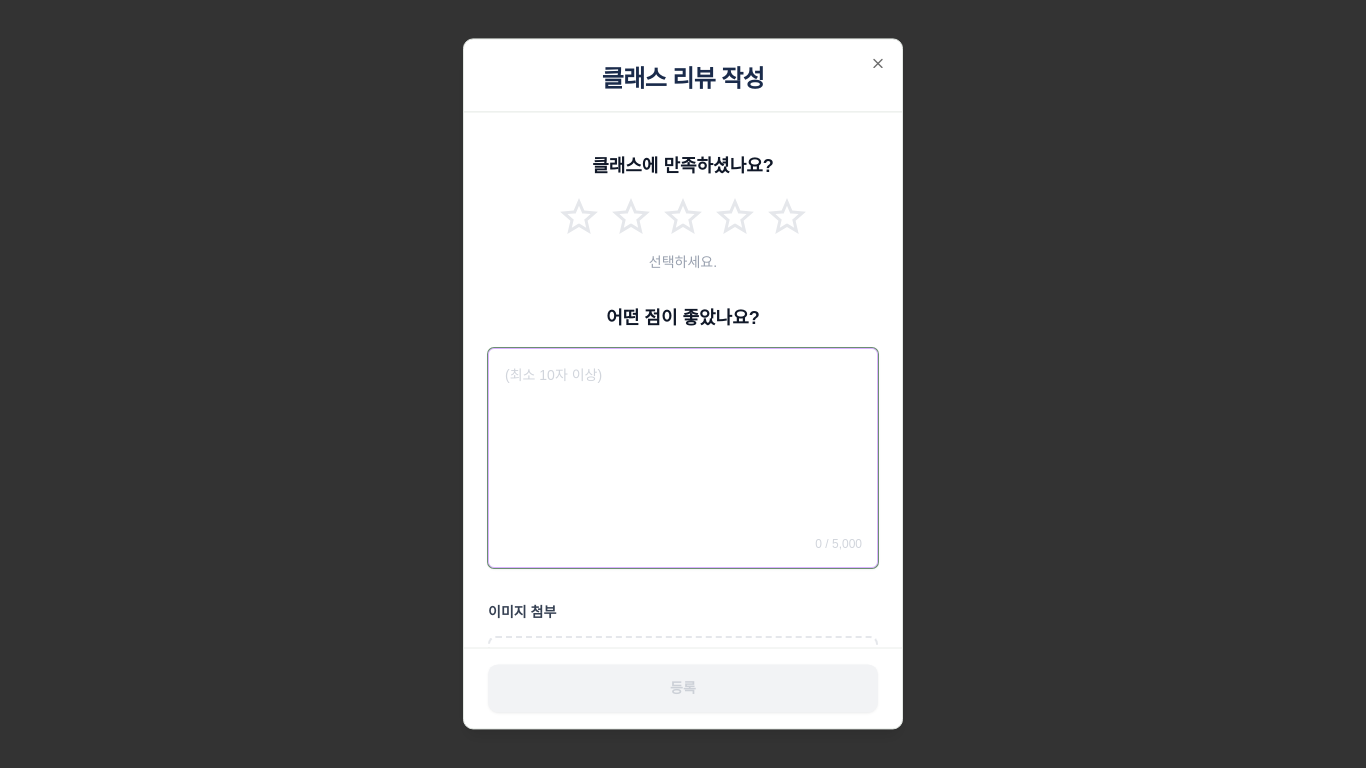
Test: MyReviewModal › 5. 별점을 입력 안하거나 글자수를 10자 미만으로 입력하면 버튼이 비활성화 되는가?
Expected: the button "등록" is disabled, [488, 665, 878, 713]
# JSDOM 환경에서 SVG 클릭 좌표 인식을 위해 fireEvent 사용
Click the 1st icon with class "cursor-pointer" at (579, 216), box [555, 192, 603, 240]
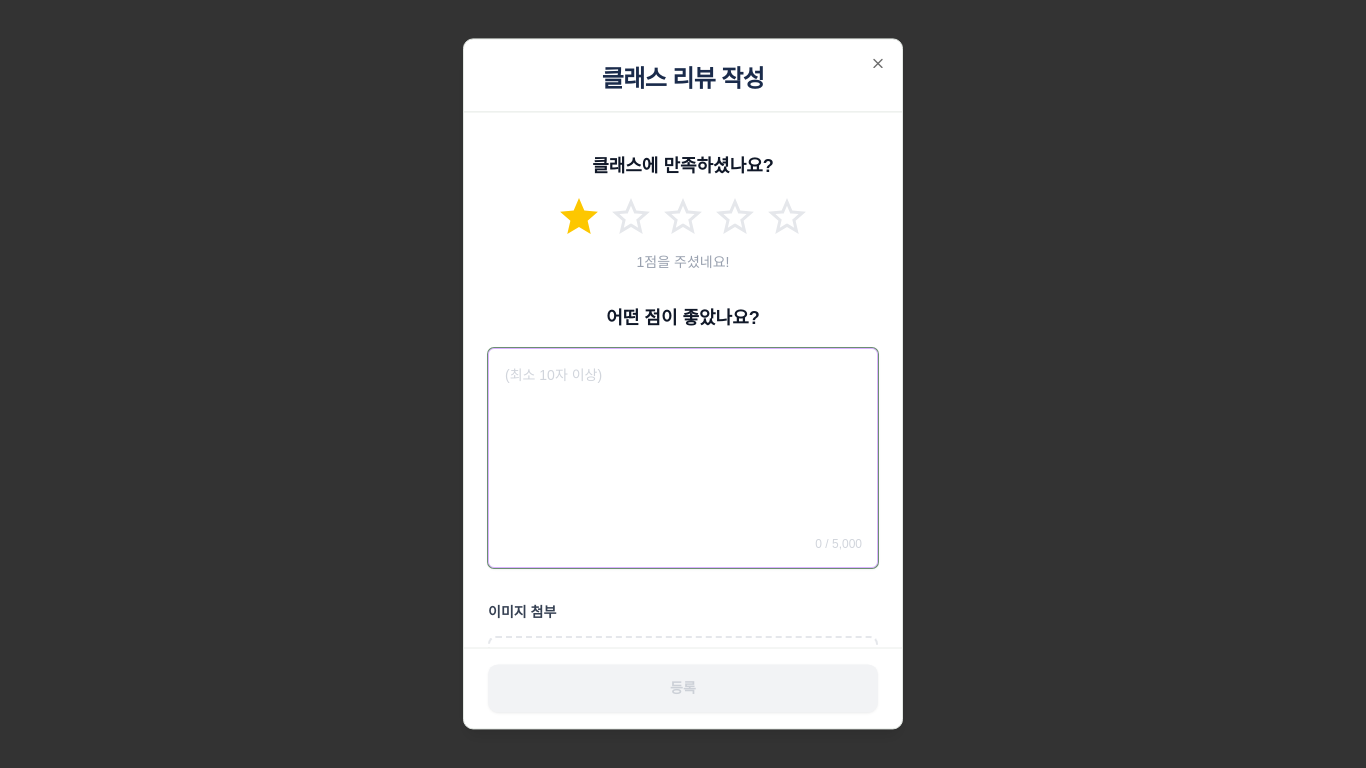
Expected: the button "등록" is disabled, [488, 665, 878, 713]
Result: the text "1점을 주셨네요!" is shown at [637, 254, 730, 270]
Type "짧은 내용" into the text box with placeholder "(최소 10자 이상)" at (683, 458), box [488, 348, 878, 568]
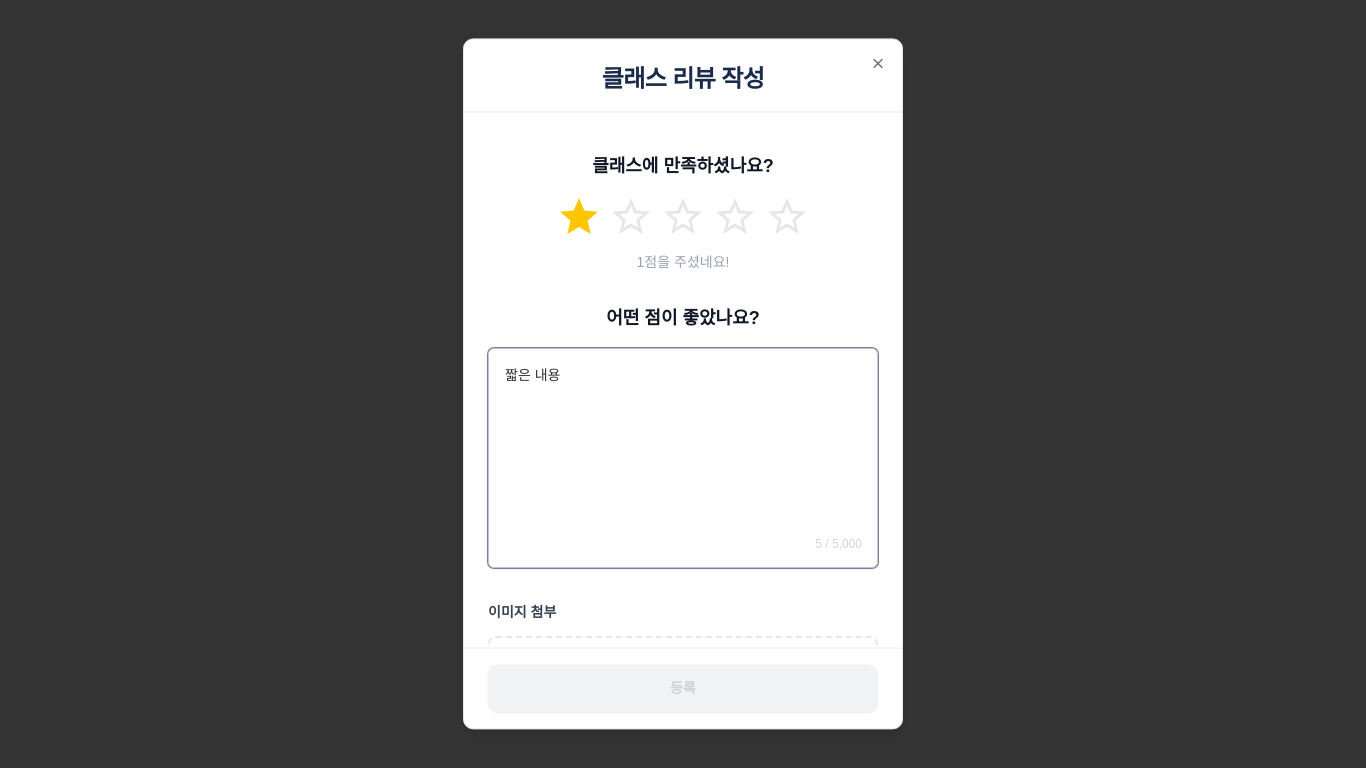
Expected: the button "등록" is disabled, [488, 665, 878, 713]
Replace the text in the text box with placeholder "(최소 10자 이상)" with "10자가 넘는 리뷰 내용을 입력합니다." at (683, 458), box [488, 348, 878, 568]
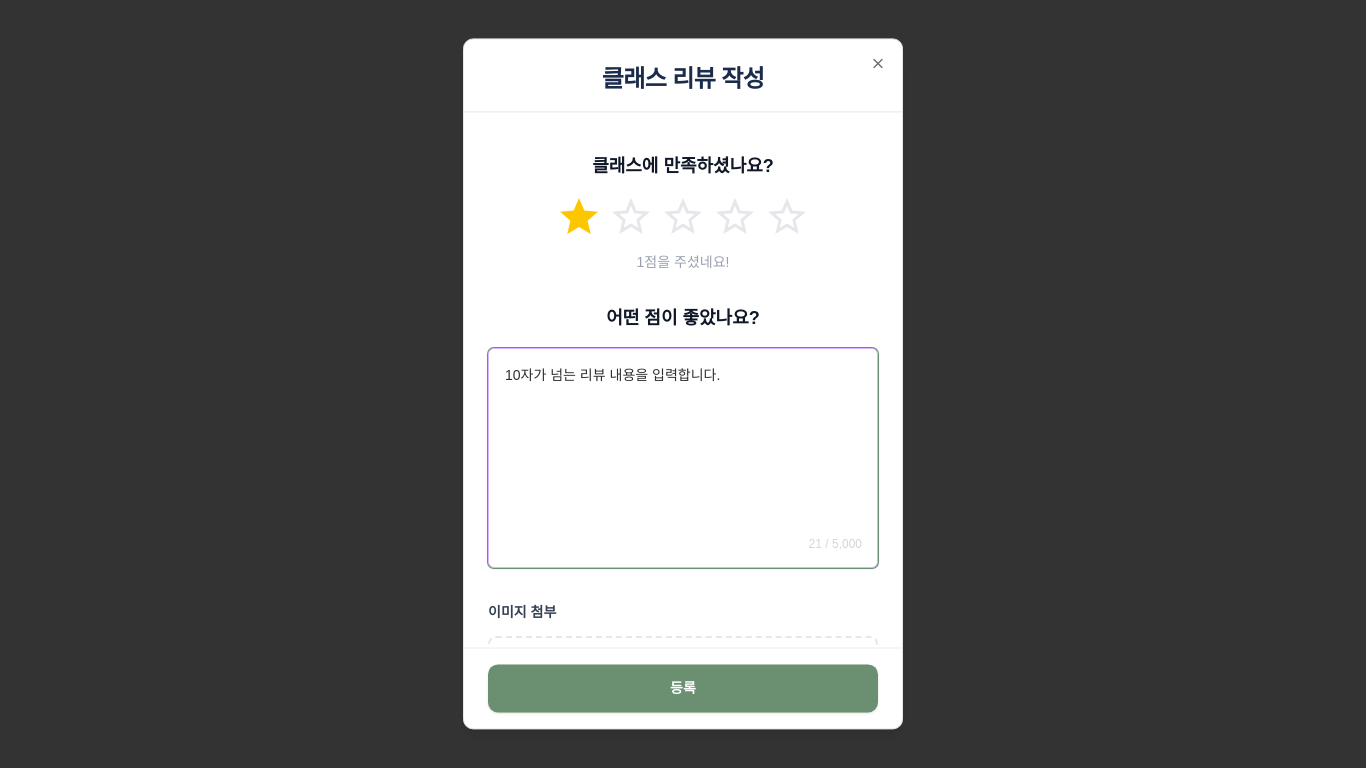
Result: the button "등록" is enabled at [488, 665, 878, 713]
